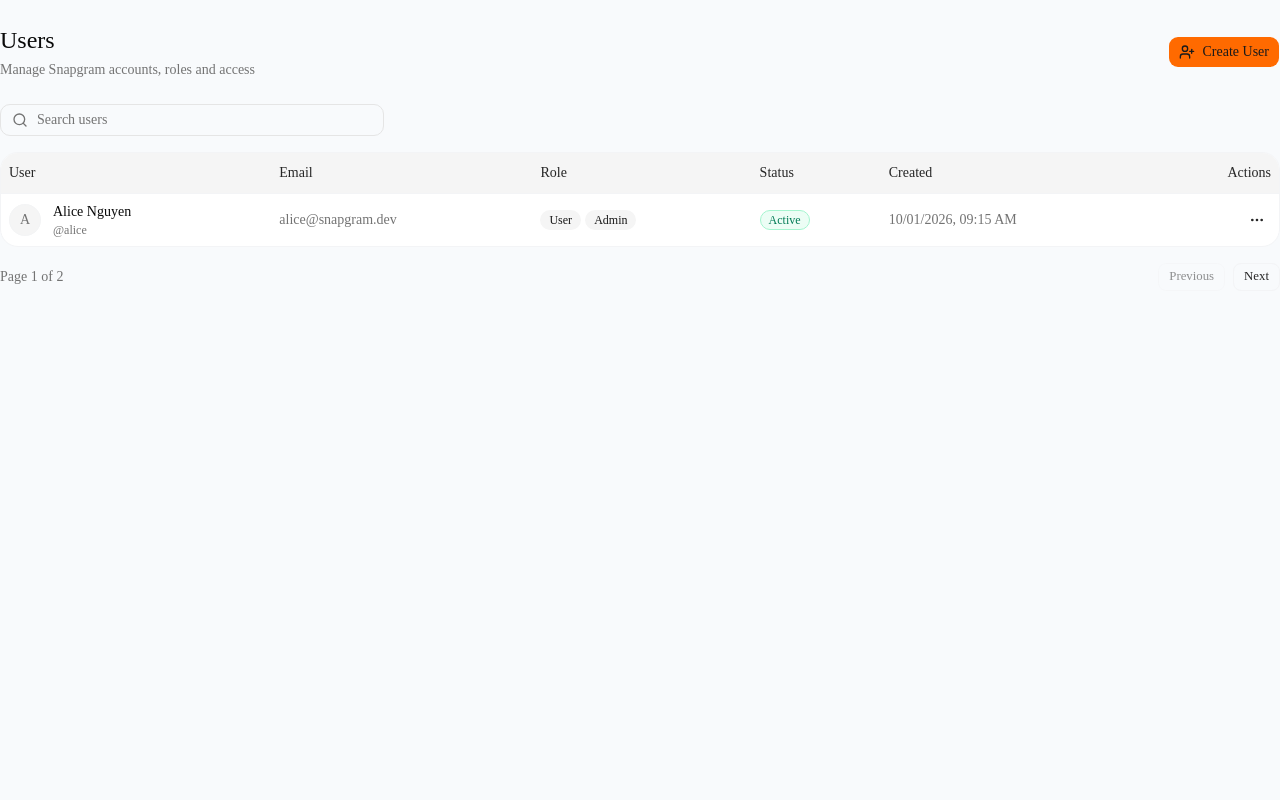
Test case: UsersPageContent › opens the ban dialog from the row action menu
Click the button named "Actions" at [1257, 220], box [1243,206,1271,234]
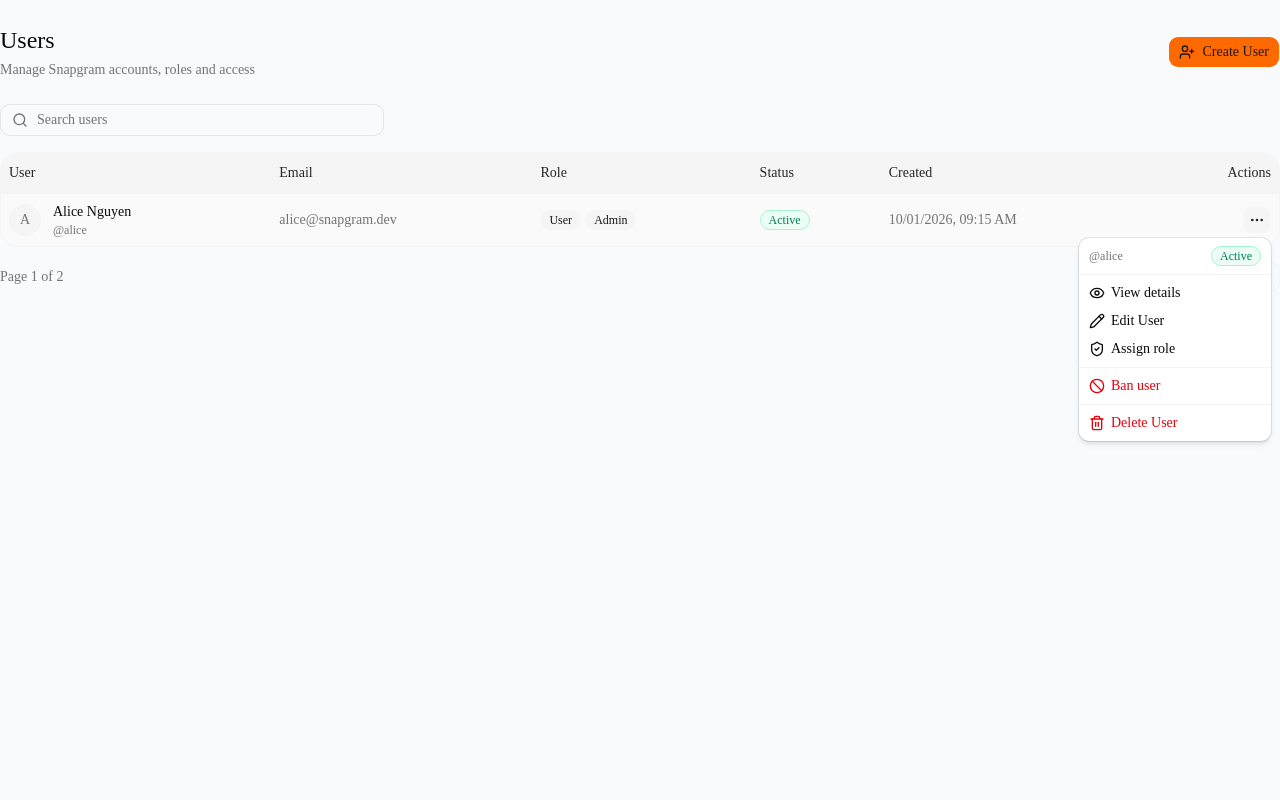
Click the menu item "Ban user" at [1125, 386], box [1089,378,1160,394]
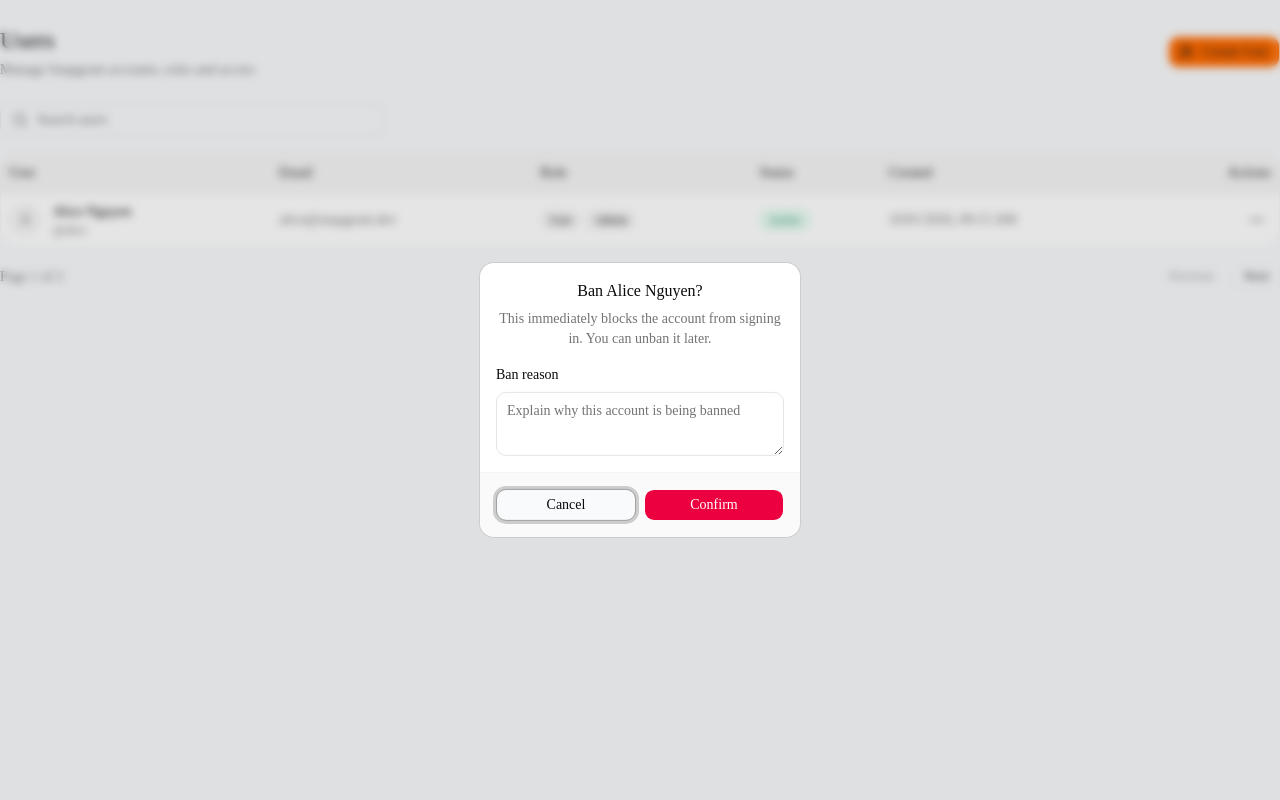
Result: the dialog is shown at [480,263,800,537]
Result: the heading "Ban Alice Nguyen?" is shown at [577,279,703,303]
